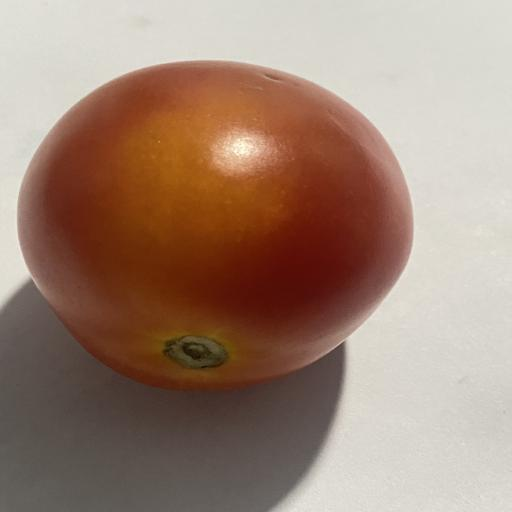ripe: (18, 61, 412, 389)
